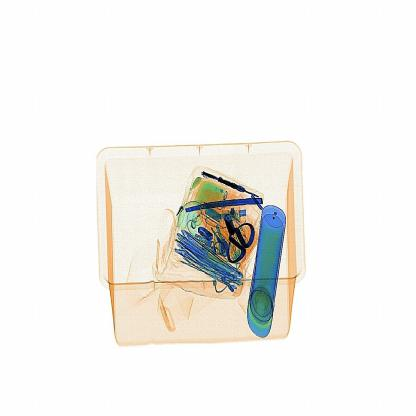gun: (217, 207, 261, 267)
